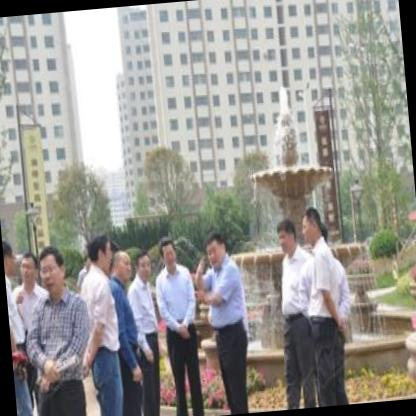head: (37, 244, 69, 298), (82, 226, 116, 275), (298, 201, 327, 248), (203, 229, 231, 273), (272, 219, 299, 264), (16, 248, 42, 292), (108, 245, 136, 284), (132, 242, 154, 286), (158, 232, 179, 272)
